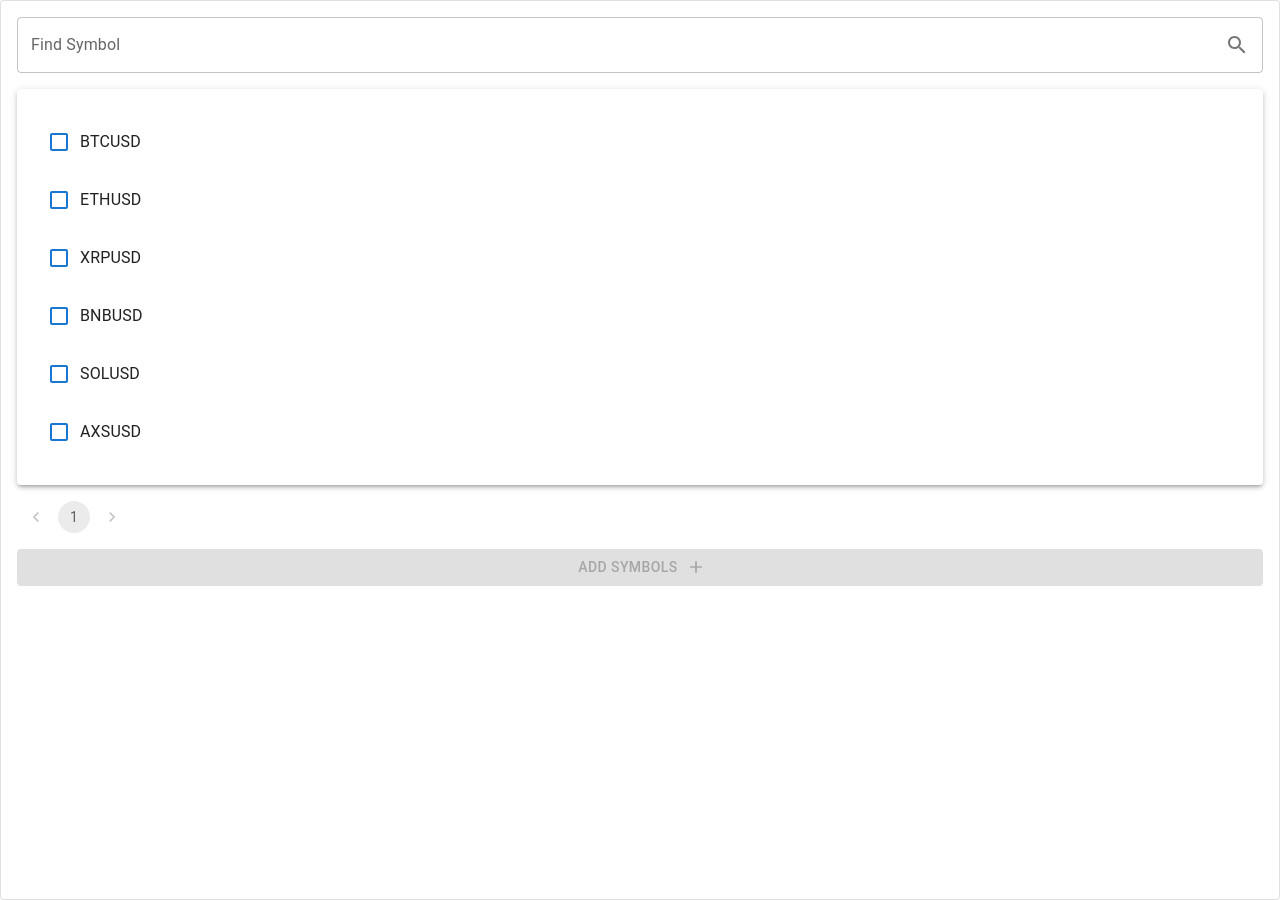
Test: SymbolList Component › deve filtrar simbolos com base no input
Step 1. Type "ETHUSD" into the field labelled "Find Symbol" → coordinates (617, 45), box top-left (17, 17), bottom-right (1217, 73)
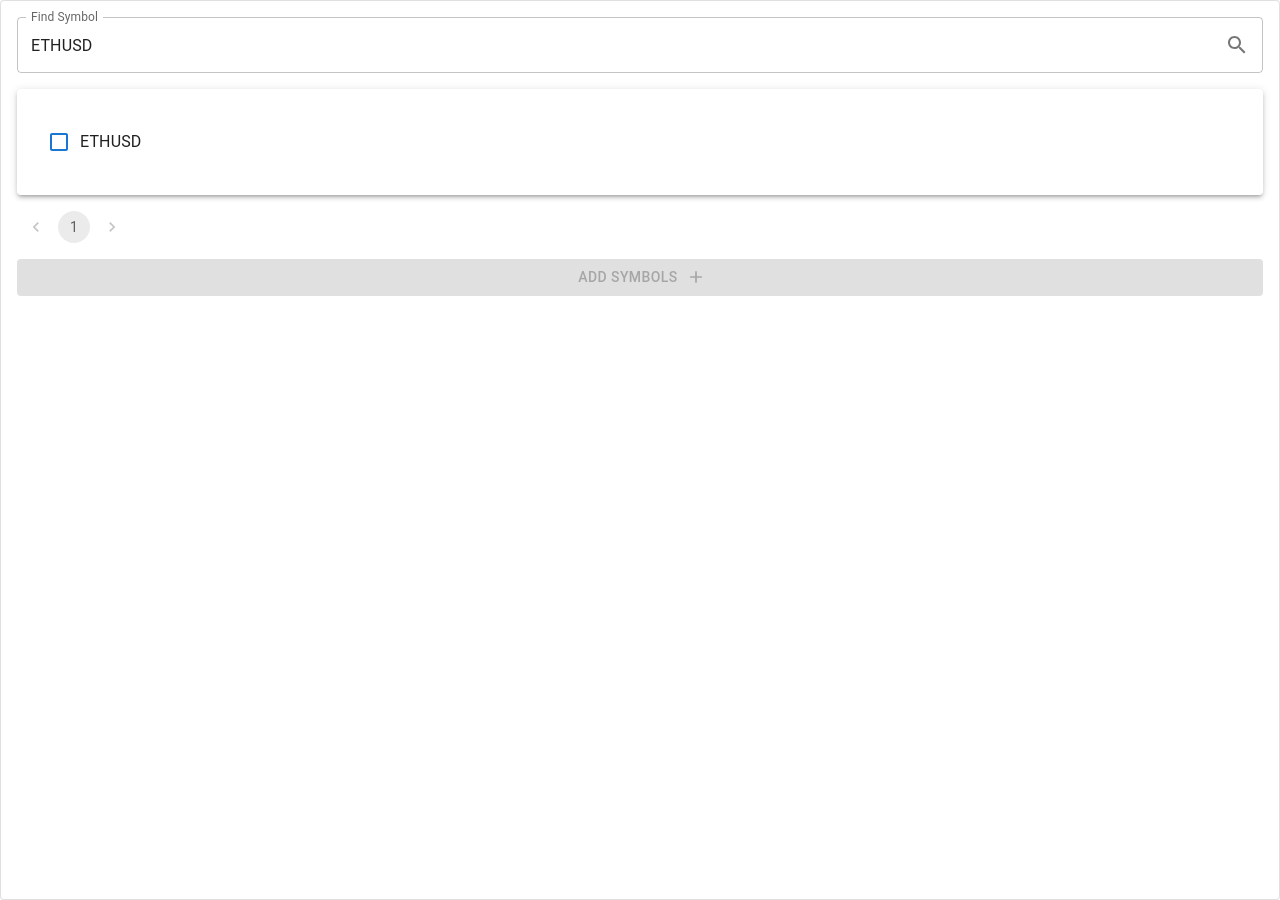
Expected: the checkbox labelled "ETHUSD" is shown, top-left (47, 130), bottom-right (142, 154)
Expected: the text labelled "BTCUSD" is gone
